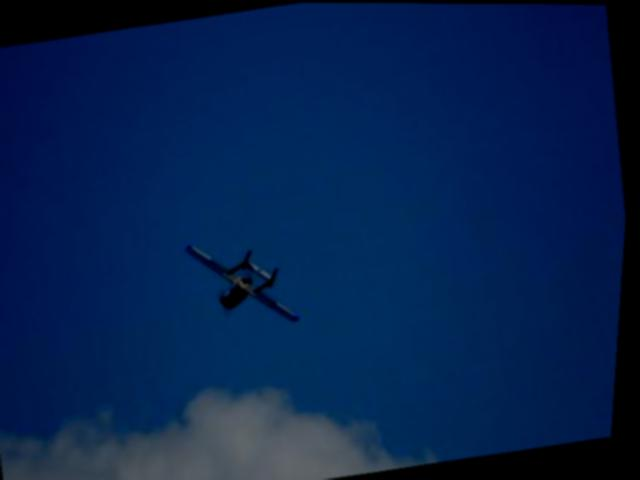uav: (179, 222, 308, 338)
